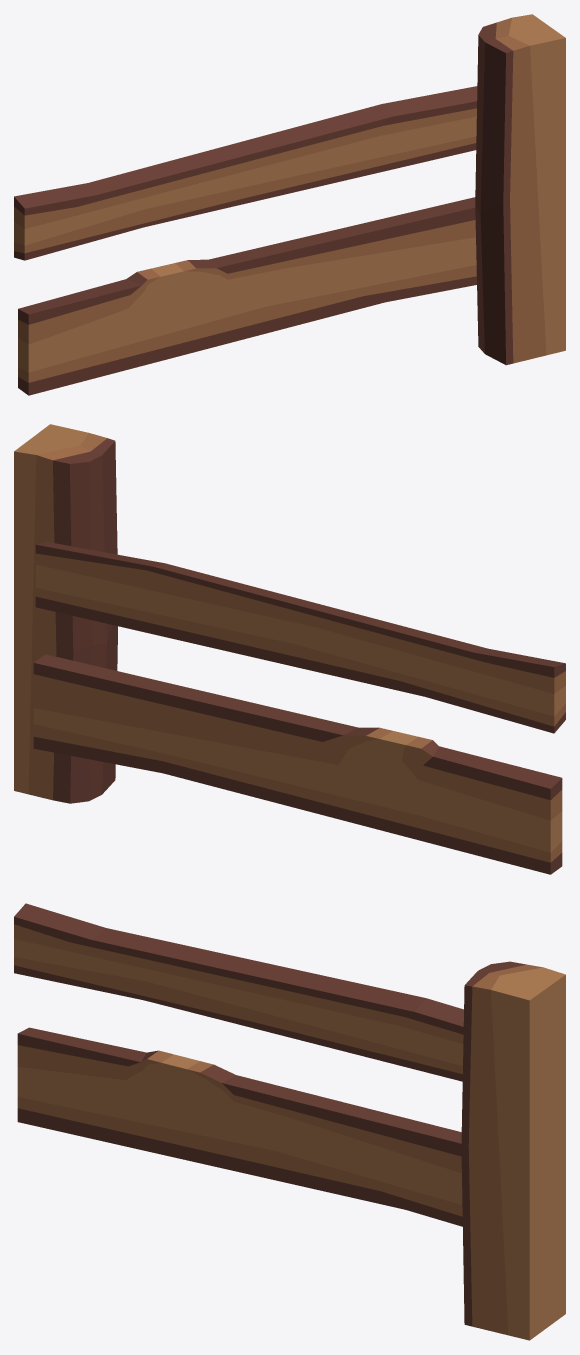
The model's file is fence_plank_half.fbx.
3 views of the same model, one above another, from view 1: azimuth 30°, elevation 25°; view 2: azimuth 150°, elevation 25°; view 3: azimuth 330°, elevation 25° (orthographic). The views are drawn at different scales.
Parts seen in each view (by area): view 1: fence_plank_half; view 2: fence_plank_half; view 3: fence_plank_half.
Part boxes in pixels (<box>): fence_plank_half: <box>14,14,565,395</box>; fence_plank_half: <box>14,424,565,874</box>; fence_plank_half: <box>14,903,565,1340</box>.
Bounding box in the file's own units: 117 × 69.46 × 17.85.
